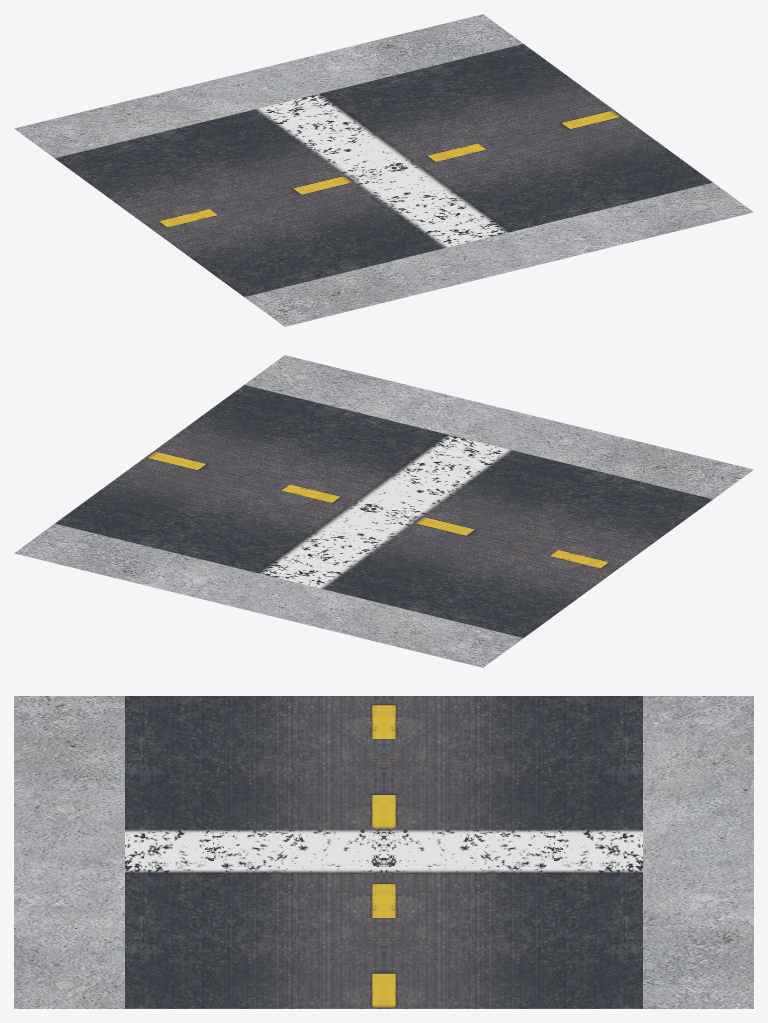
File: track_start.fbx
The picture shows the model from 3 angles, top to bottom: view 1: azimuth 30°, elevation 25°; view 2: azimuth 150°, elevation 25°; view 3: azimuth 270°, elevation 25°; orthographic projection. The views are drawn at different scales.
Parts seen in each view (by area): view 1: track_start; view 2: track_start; view 3: track_start.
Part boxes in pixels (x1,y1,x2,y2): track_start: [14, 14, 753, 326]; track_start: [14, 355, 753, 667]; track_start: [14, 696, 753, 1008].
Bounding box in the file's own units: 10 × 1.19e-07 × 10.
2 materials, 2 textured.
